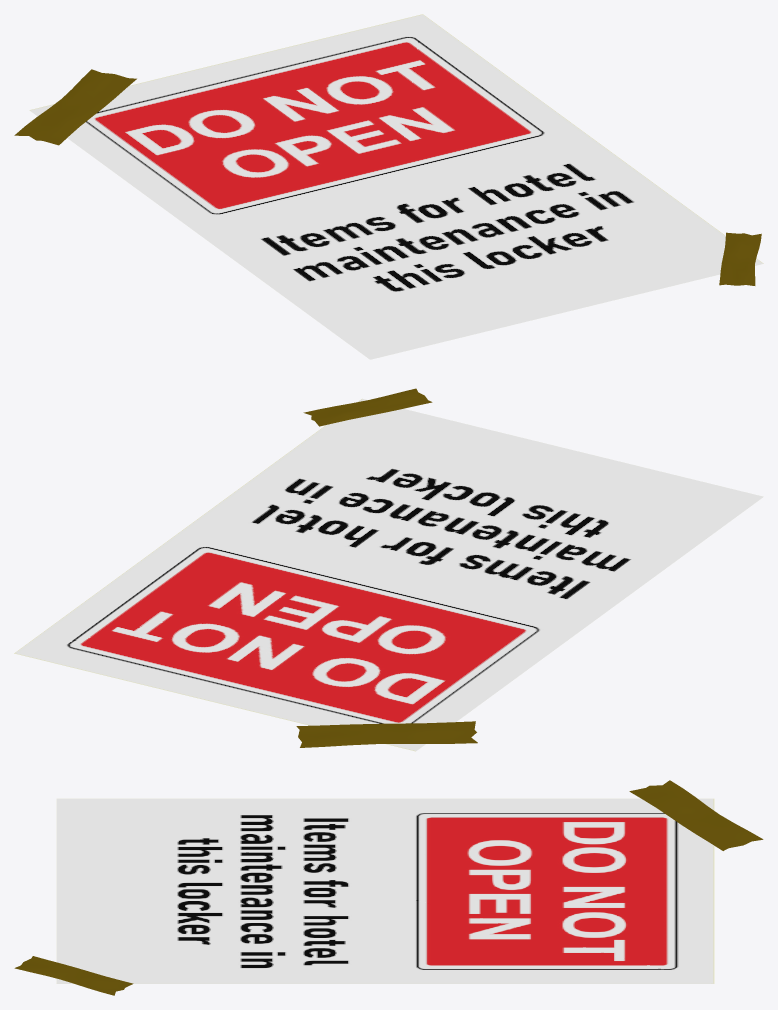
The model's file is DoNotOpen.fbx.
3 renders of one model, top to bottom at view 1: azimuth 30°, elevation 25°; view 2: azimuth 150°, elevation 25°; view 3: azimuth 270°, elevation 25°, orthographic. The views are drawn at different scales.
Visible parts, largest first — view 1: Affiche, Scotch1, Scotch2; view 2: Affiche, Scotch1, Scotch2; view 3: Affiche, Scotch1, Scotch2.
Part boxes in pixels (x1,y1,x2,y2): Affiche: (29, 14, 763, 359); Scotch1: (14, 69, 136, 145); Scotch2: (719, 232, 761, 285); Affiche: (14, 398, 763, 751); Scotch1: (296, 721, 477, 747); Scotch2: (303, 388, 432, 426); Affiche: (56, 798, 714, 983); Scotch1: (629, 780, 763, 850); Scotch2: (14, 956, 133, 995).
Size of the model in its own units: 234 by 1.33 by 342.
